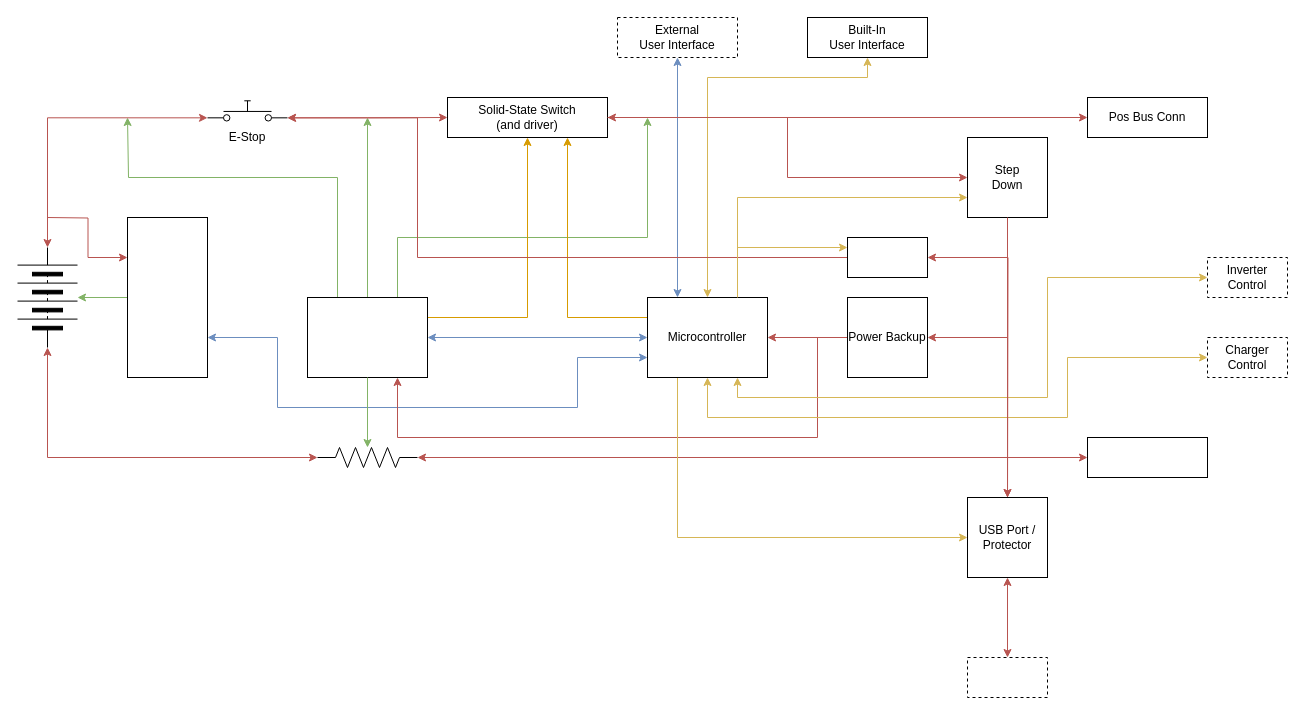
This 1305x715 diagram has some shape labels left out. Each missing label, with the centre of its shape:
"Cell Monitoring" belongs at (x=167, y=297).
"External Device" belongs at (x=1007, y=677).
"Neg Bus Conn" belongs at (x=1147, y=457).
"Pack Monitoring" belongs at (x=367, y=337).
"Step Up" belongs at (x=887, y=257).
